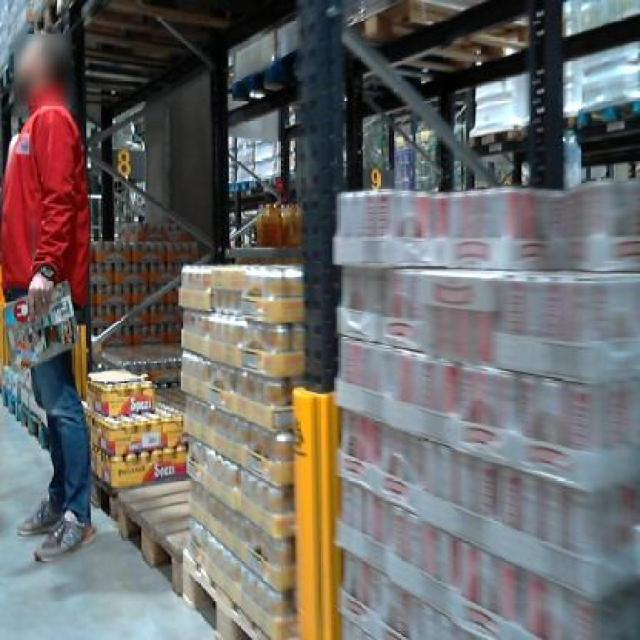pallet: (102, 449, 196, 598), (178, 528, 285, 640)
